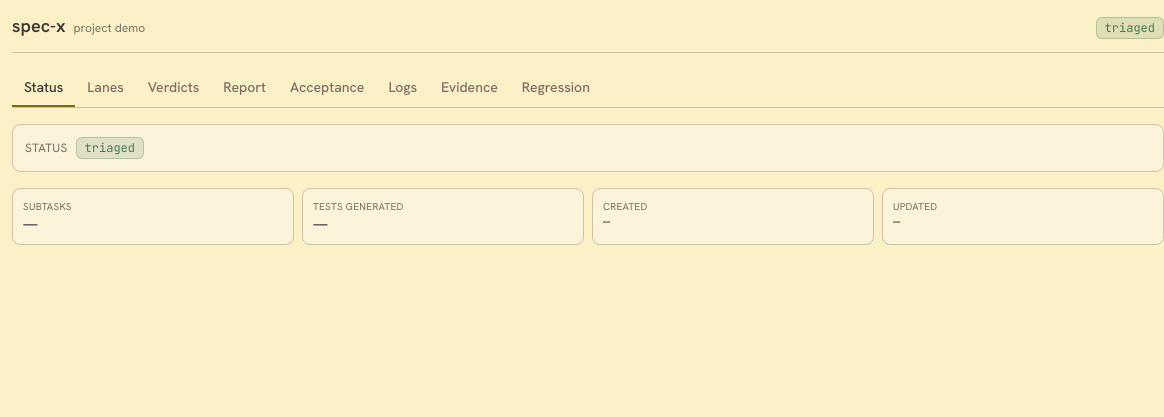
it: <TFactoryTaskDetail> evidence tab (Task 16) › shows evidence-empty when verdicts have no evidence_urls
What coordinates should you click on to do the following:
click the tab with test id "tab-verdicts"
I would click on:
 (174, 88)
Its box is [136,69,211,107].
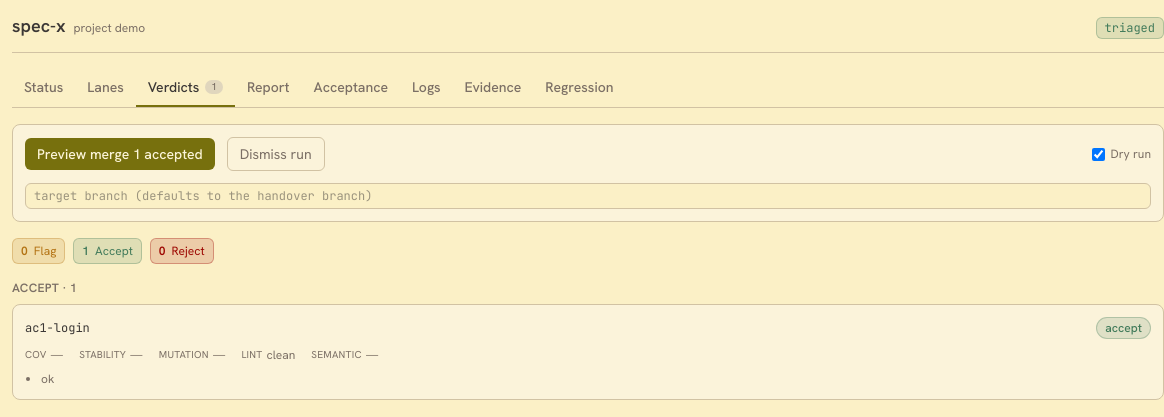
expect the element with test id "verdict-table" is shown: met, box [12,238,1163,400]
What coordinates should you click on to do the following:
click the tab with test id "tab-evidence"
I would click on:
 (493, 88)
Its box is [453,69,533,107].
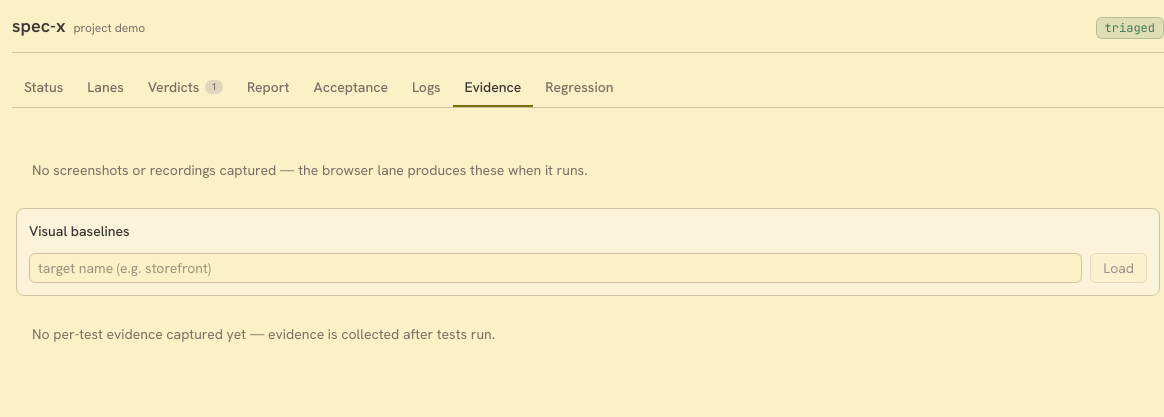
expect the text with test id "evidence-empty" is shown: met, box [32,325,495,343]
